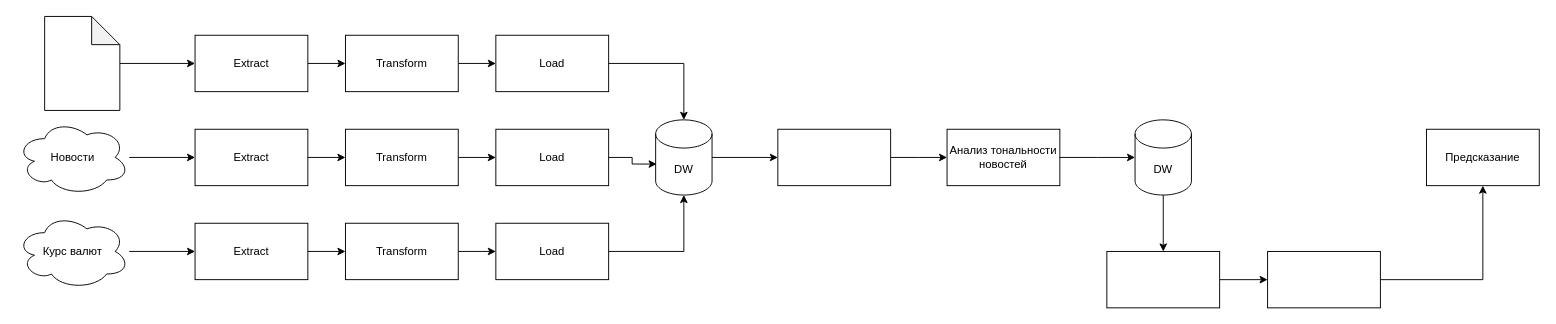
Some shapes in this 1556 by 324 pixel diagram are drawn without their labels. Here are the shapes that lost their labels. From the top down, the centre of each, then its label:
At (82,63): "Котировки".
At (834,157): "Витрина".
At (1163,279): "Витрина (для предсказания цены по тону новости)".
At (1323,279): "Обучение модели регресии".
